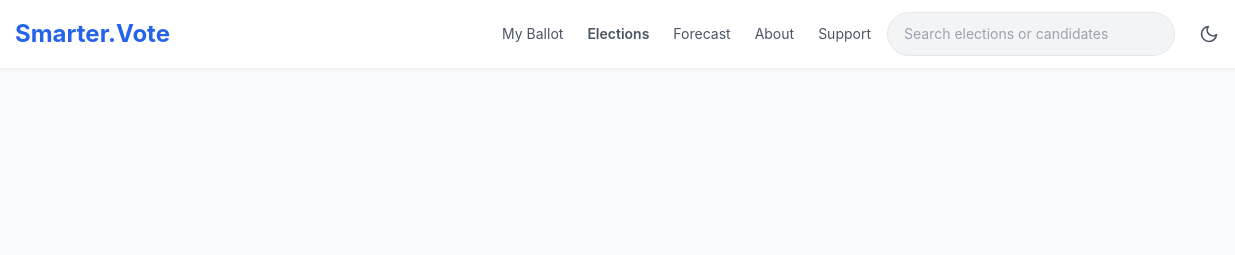
Test: SiteHeader search matching › matches a race by title
Type "Missouri" into the dropdown with id "site-search".
click(1031, 34); type("Missouri")  # box [887,12,1175,56]
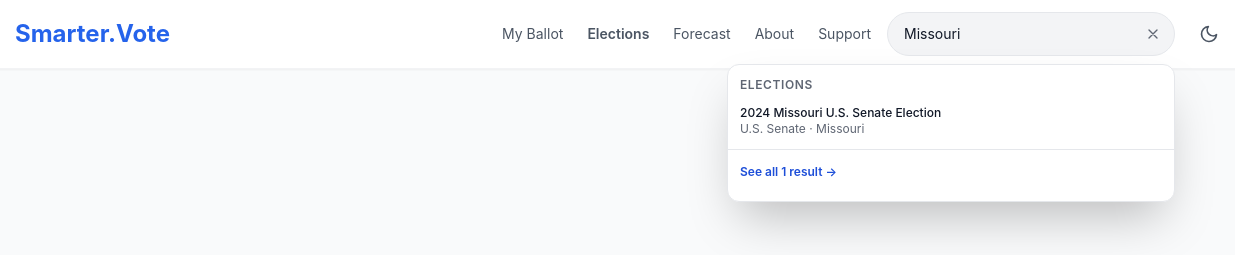
Check: the text "Missouri U.S. Senate" is shown, box [740,105,941,120]
